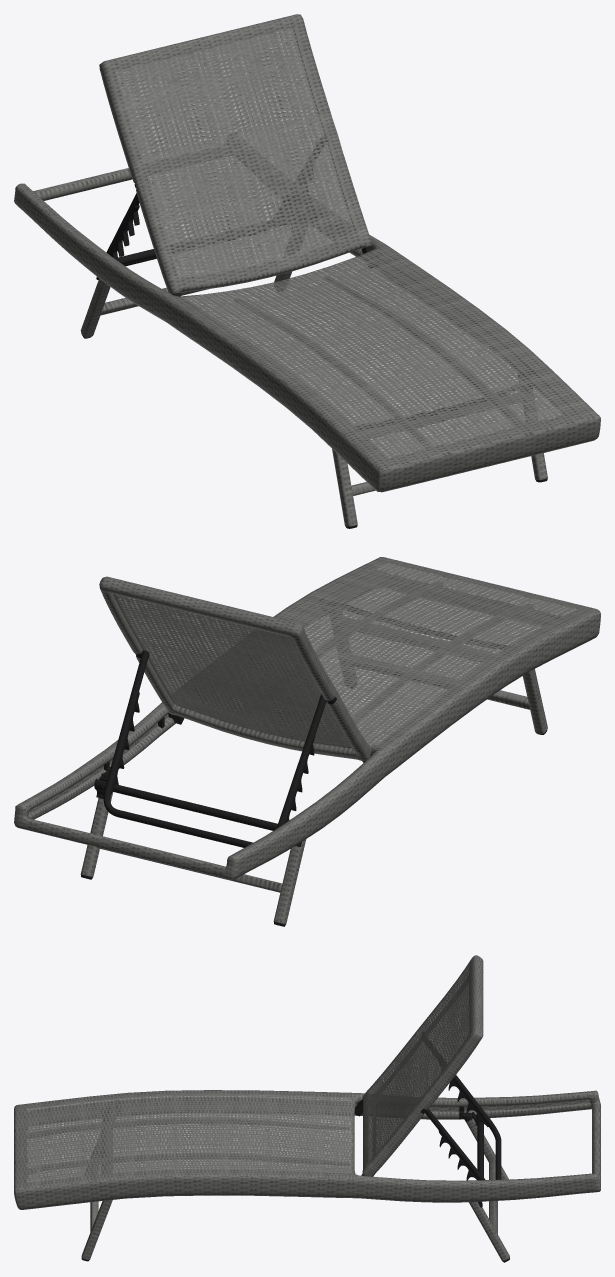
Rendered from B07YNFQCWM.glb.
3 views of the same model, one above another, from view 1: azimuth 30°, elevation 25°; view 2: azimuth 150°, elevation 25°; view 3: azimuth 270°, elevation 25° (orthographic). The views are drawn at different scales.
Visible parts, largest first — view 1: RootNode; view 2: RootNode; view 3: RootNode.
Boxes of the visible parts, <box> form: RootNode: <box>14,14,600,528</box>; RootNode: <box>14,557,600,926</box>; RootNode: <box>14,955,600,1262</box>.
Bounding box in the file's own units: 0.7026 × 0.8683 × 2.
1 material, 1 textured.
